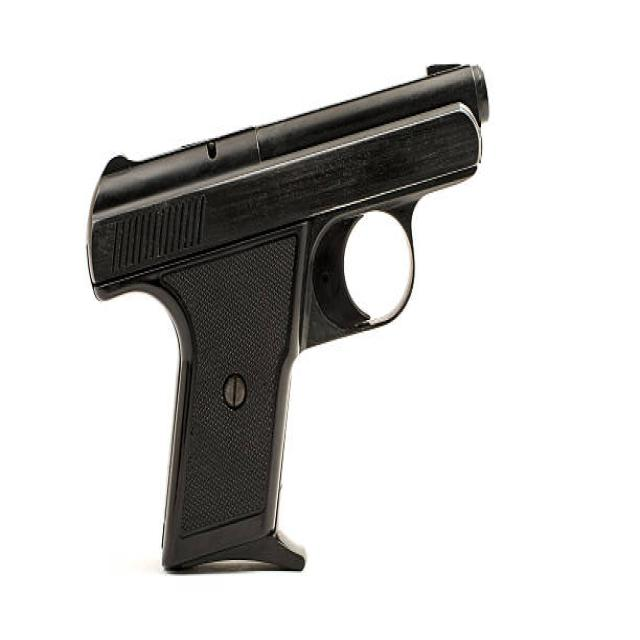pistol: (77, 56, 500, 584)
